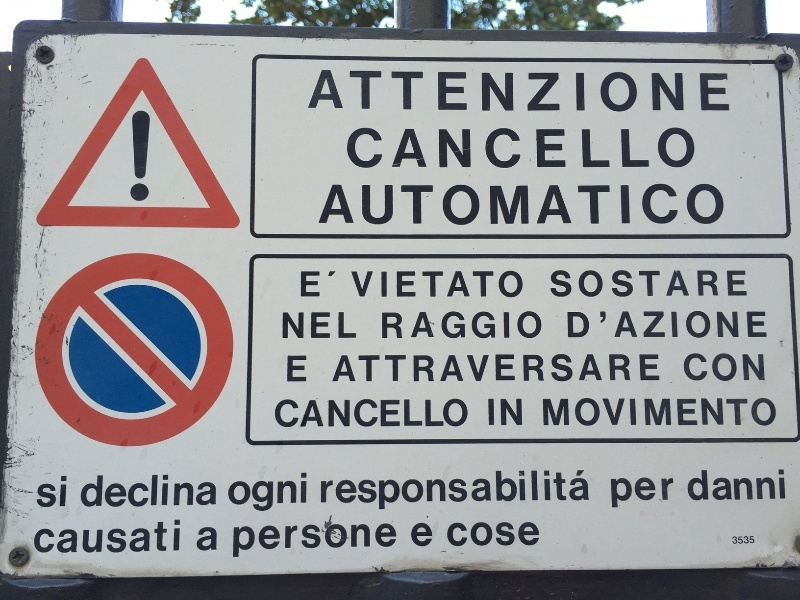text: (321, 62, 336, 126), (337, 62, 352, 126), (353, 62, 368, 126), (369, 62, 384, 126), (385, 62, 400, 126), (401, 62, 416, 126), (417, 62, 432, 126), (433, 62, 448, 126), (449, 62, 464, 126), (465, 62, 480, 126), (481, 62, 496, 126), (497, 62, 512, 126), (513, 62, 528, 126), (529, 62, 544, 126), (545, 62, 560, 126), (561, 62, 576, 126), (577, 62, 592, 126), (593, 62, 608, 126), (609, 62, 624, 126), (625, 62, 640, 126), (641, 62, 656, 126), (657, 62, 672, 126), (673, 62, 688, 126), (689, 62, 704, 126), (705, 62, 720, 126), (721, 62, 734, 126), (337, 176, 352, 230), (353, 176, 368, 230), (369, 176, 384, 230), (385, 176, 400, 230), (401, 176, 416, 230), (417, 176, 432, 230), (433, 176, 448, 230), (449, 176, 464, 230), (465, 176, 480, 230), (481, 176, 496, 230), (497, 176, 512, 230), (513, 176, 528, 230), (529, 176, 544, 230), (545, 176, 560, 230), (561, 176, 576, 230), (577, 176, 592, 230), (593, 176, 608, 230), (609, 176, 624, 230), (625, 176, 640, 230), (641, 176, 656, 230), (657, 176, 672, 230), (673, 176, 688, 230), (689, 176, 704, 230), (705, 176, 720, 230), (321, 463, 336, 513), (337, 463, 352, 513), (353, 463, 368, 513), (369, 463, 384, 513), (385, 463, 400, 513), (401, 463, 416, 513), (417, 463, 432, 513), (433, 463, 448, 513), (449, 463, 464, 513), (465, 463, 480, 513), (481, 463, 496, 513), (497, 463, 512, 513), (513, 463, 528, 513), (529, 463, 544, 513), (545, 463, 560, 513), (561, 463, 576, 513), (577, 463, 592, 513), (353, 125, 368, 174), (369, 125, 384, 174), (385, 125, 400, 174), (401, 125, 416, 174), (417, 125, 432, 174), (433, 125, 448, 174), (449, 125, 464, 174), (465, 125, 480, 174), (481, 125, 496, 174), (497, 125, 512, 174), (513, 125, 528, 174), (529, 125, 544, 174), (545, 125, 560, 174), (561, 125, 576, 174), (577, 125, 592, 174), (593, 125, 608, 174), (609, 125, 624, 174), (625, 125, 640, 174), (641, 125, 656, 174), (657, 125, 672, 174), (673, 125, 688, 174), (689, 125, 704, 174), (241, 471, 256, 518), (257, 471, 272, 518), (273, 471, 288, 518), (289, 471, 304, 518), (545, 392, 560, 437), (561, 392, 576, 437), (577, 392, 592, 437), (593, 392, 608, 437), (609, 392, 624, 437), (625, 392, 640, 437), (641, 392, 656, 437), (657, 392, 672, 437), (673, 392, 688, 437), (689, 392, 704, 437), (705, 392, 720, 437), (721, 392, 736, 437), (737, 392, 752, 437), (753, 392, 768, 437), (241, 520, 256, 565), (257, 520, 272, 565), (273, 520, 288, 565), (289, 520, 304, 565), (305, 520, 320, 565), (321, 520, 336, 565), (337, 520, 352, 565), (353, 520, 368, 565), (369, 520, 384, 565), (753, 348, 769, 390), (226, 471, 240, 518), (273, 391, 288, 434), (289, 391, 304, 434), (305, 391, 320, 434), (321, 391, 336, 434), (337, 391, 352, 434), (353, 391, 368, 434), (369, 391, 384, 434), (385, 391, 400, 434), (401, 391, 416, 434), (417, 391, 432, 434), (433, 391, 448, 434), (449, 391, 464, 434), (339, 125, 352, 174), (689, 348, 704, 390), (705, 348, 720, 390), (721, 348, 736, 390), (737, 348, 752, 390), (81, 470, 96, 512), (97, 470, 112, 512), (113, 470, 128, 512), (129, 470, 144, 512), (145, 470, 160, 512), (161, 470, 176, 512), (177, 470, 192, 512), (193, 470, 208, 512), (385, 304, 400, 345), (401, 304, 416, 345), (417, 304, 432, 345), (433, 304, 448, 345), (449, 304, 464, 345), (465, 304, 480, 345), (481, 304, 496, 345), (497, 304, 512, 345), (513, 304, 528, 345), (529, 304, 544, 345), (353, 349, 368, 390), (369, 349, 384, 390), (385, 349, 400, 390), (401, 349, 416, 390), (417, 349, 432, 390), (433, 349, 448, 390), (449, 349, 464, 390), (465, 349, 480, 390), (481, 349, 496, 390), (497, 349, 512, 390), (513, 349, 528, 390), (529, 349, 544, 390), (545, 349, 560, 390), (561, 349, 576, 390), (577, 349, 592, 390), (593, 349, 608, 390), (609, 349, 624, 390), (625, 349, 640, 390), (641, 349, 656, 390), (33, 472, 48, 513), (49, 472, 64, 513), (609, 473, 624, 514), (625, 473, 640, 514), (641, 473, 656, 514), (657, 473, 672, 514), (33, 517, 48, 557), (49, 517, 64, 557), (65, 517, 80, 557), (81, 517, 96, 557), (97, 517, 112, 557), (113, 517, 128, 557), (129, 517, 144, 557), (145, 517, 160, 557), (161, 517, 176, 557), (689, 467, 704, 507), (705, 467, 720, 507), (721, 467, 736, 507), (737, 467, 752, 507), (753, 467, 768, 507), (769, 467, 784, 507), (353, 266, 368, 305), (369, 266, 384, 305), (385, 266, 400, 305), (401, 266, 416, 305), (417, 266, 432, 305), (433, 266, 448, 305), (449, 266, 464, 305), (465, 266, 480, 305), (481, 266, 496, 305), (497, 266, 512, 305), (545, 265, 560, 304), (561, 265, 576, 304), (577, 265, 592, 304), (593, 265, 608, 304), (609, 265, 624, 304), (625, 265, 640, 304), (641, 265, 656, 304), (657, 265, 672, 304), (673, 265, 688, 304), (689, 265, 704, 304), (705, 265, 720, 304), (721, 265, 736, 304), (737, 265, 752, 304), (385, 520, 398, 565), (338, 349, 352, 390), (305, 264, 320, 302), (321, 264, 336, 302), (561, 307, 576, 345), (577, 307, 592, 345), (593, 307, 608, 345), (609, 307, 624, 345), (625, 307, 640, 345), (641, 307, 656, 345), (657, 307, 672, 345), (673, 307, 688, 345), (689, 307, 704, 345), (705, 307, 720, 345), (721, 307, 736, 345), (737, 307, 752, 345), (753, 307, 768, 345), (326, 176, 336, 230), (497, 394, 512, 430), (289, 310, 304, 345), (305, 310, 320, 345), (321, 310, 336, 345), (337, 310, 352, 345), (289, 351, 304, 386), (449, 517, 464, 552), (465, 517, 480, 552), (481, 517, 496, 552), (497, 517, 512, 552), (513, 517, 528, 552), (312, 62, 320, 126), (417, 520, 433, 552), (513, 266, 526, 305), (513, 394, 527, 430), (529, 517, 543, 552), (721, 176, 730, 230), (209, 470, 220, 512), (769, 392, 779, 437), (230, 520, 240, 565), (484, 394, 496, 430), (209, 524, 222, 556), (277, 310, 288, 345), (657, 349, 666, 390), (295, 264, 304, 302), (199, 524, 208, 556), (377, 304, 384, 345), (305, 471, 311, 518), (538, 392, 544, 437), (465, 391, 471, 434), (353, 310, 360, 345), (346, 266, 352, 305), (737, 534, 752, 549), (409, 520, 416, 552), (305, 351, 311, 386), (177, 517, 182, 557), (785, 467, 790, 507), (684, 348, 688, 390), (65, 472, 69, 513), (673, 473, 677, 514), (284, 351, 288, 386), (769, 307, 772, 345), (318, 463, 320, 513), (270, 391, 272, 434), (545, 304, 547, 345), (606, 473, 608, 514), (30, 517, 32, 557), (686, 467, 688, 507), (542, 265, 544, 304), (732, 534, 736, 549), (753, 534, 757, 549), (593, 463, 594, 513), (447, 517, 448, 552)
